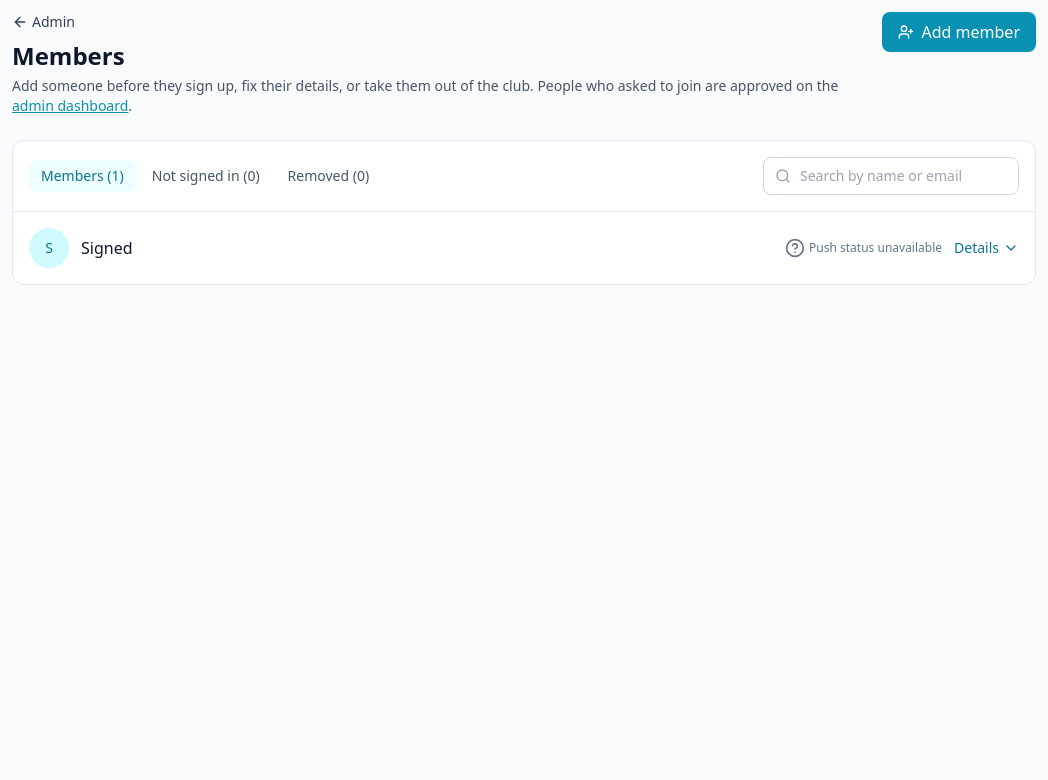
Scenario: editing a member › sends only the editable fields and keeps the email out of it for a signed-in member
Click the button with aria-label "details for signed". click: [49, 248]
box: x1=29 y1=228 x2=1019 y2=268
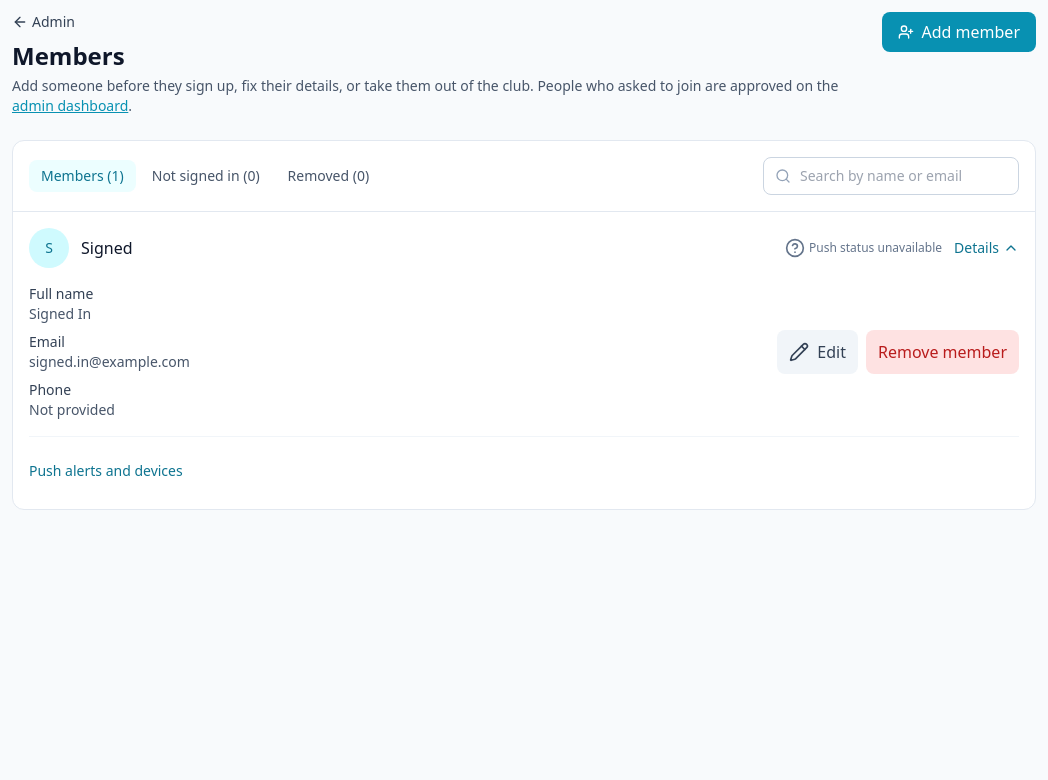
Click the button with aria-label "edit signed". click: [818, 352]
box: x1=777 y1=330 x2=858 y2=374
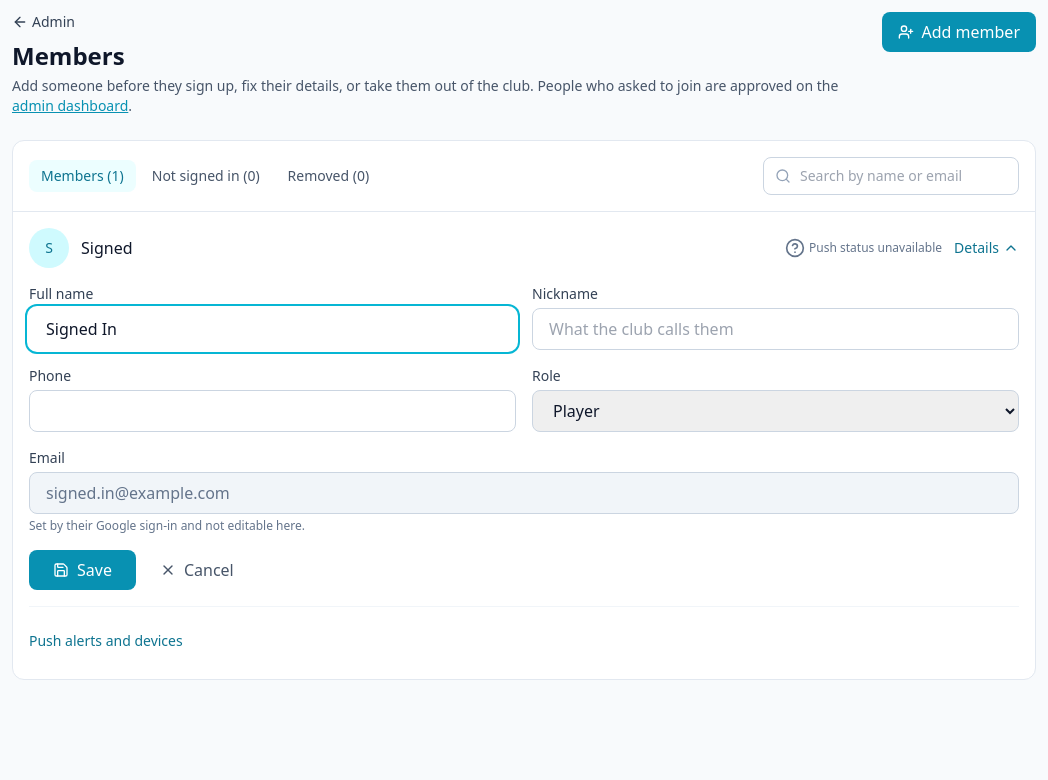
Now the field labelled "Email Set by their Google sign-in and not editable here." is disabled, box x1=29 y1=472 x2=1019 y2=514
Now the text "Set by their Google sign-in and not editable here." is shown, box x1=29 y1=517 x2=305 y2=534
Type "Smash" into the field labelled "Nickname". click: [776, 329]
box: x1=532 y1=308 x2=1019 y2=350
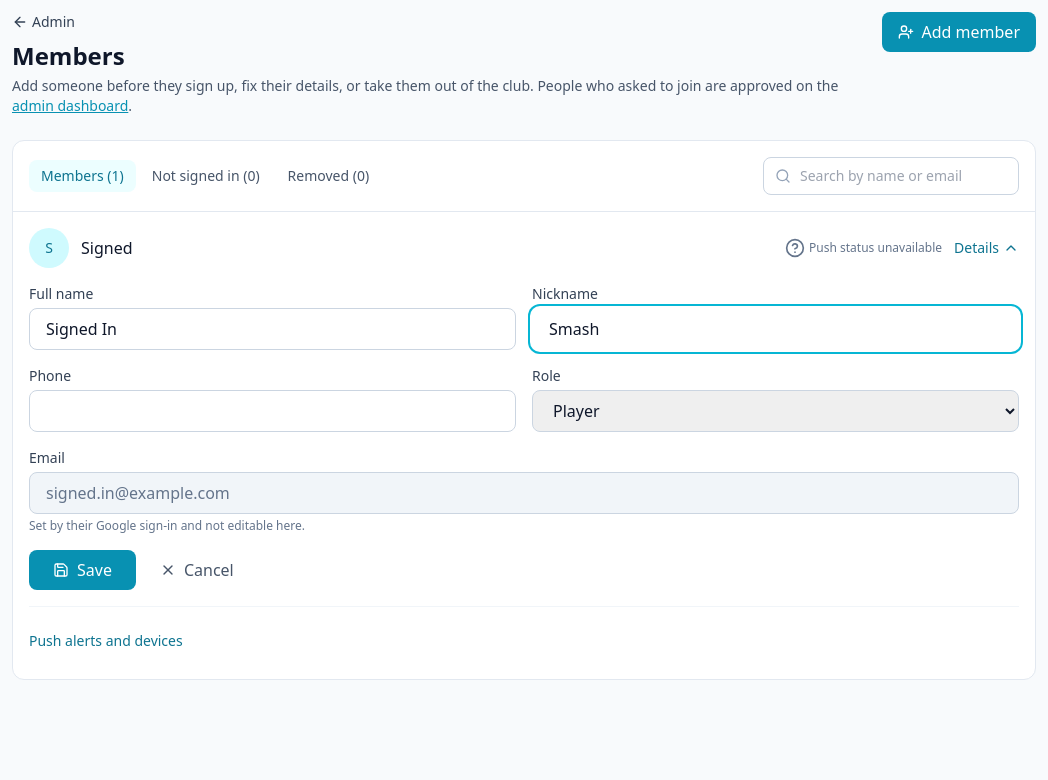
Click the button "Save". click: [82, 570]
box: x1=29 y1=550 x2=136 y2=590
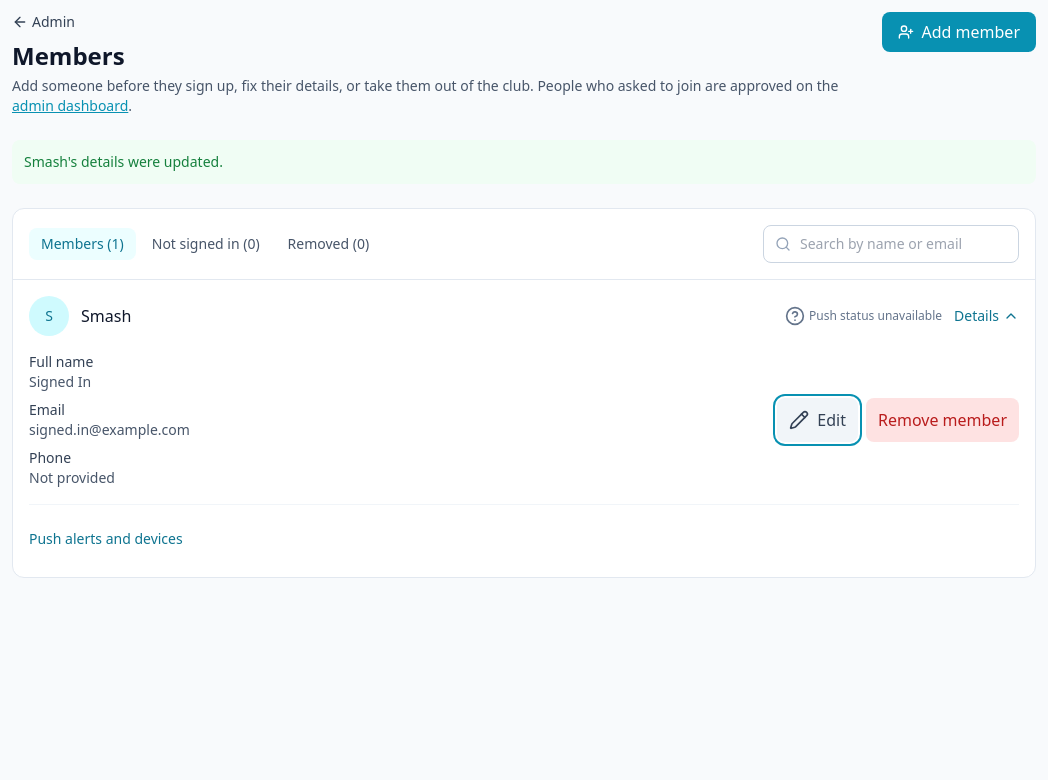
Now the message shows "details were updated", box x1=24 y1=152 x2=223 y2=171
